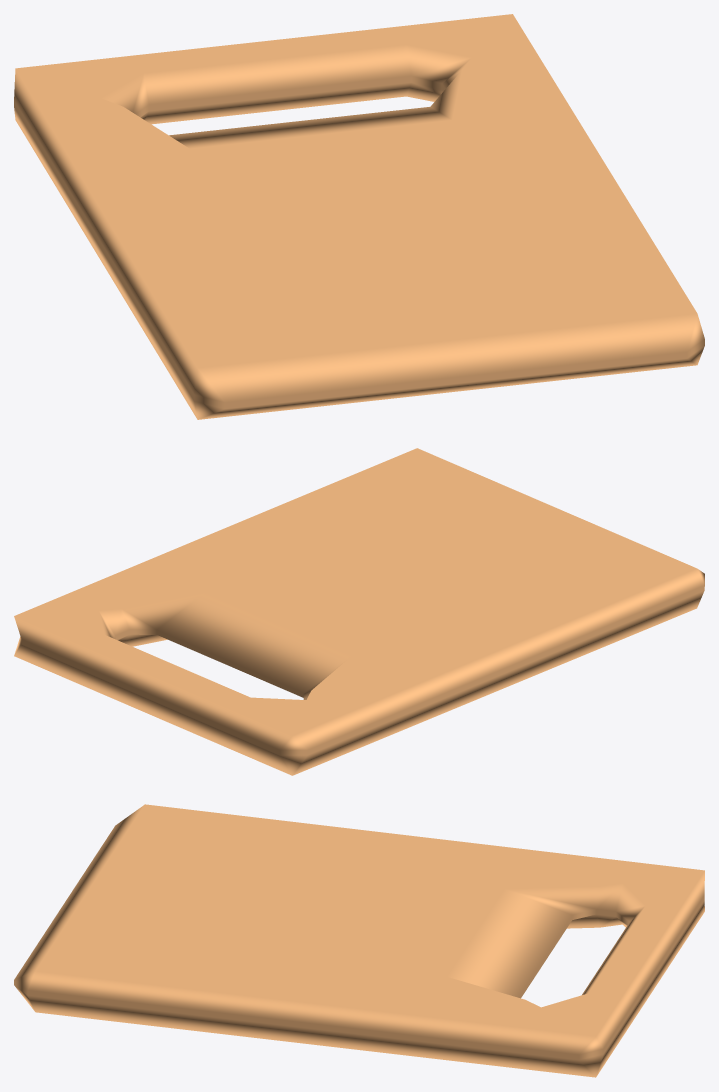
The model's file is cuttingboard.fbx.
The picture shows the model from 3 angles, top to bottom: view 1: azimuth 30°, elevation 25°; view 2: azimuth 150°, elevation 25°; view 3: azimuth 270°, elevation 25°; orthographic projection. The views are drawn at different scales.
Visible parts, largest first — view 1: Cutting board; view 2: Cutting board; view 3: Cutting board.
Boxes of the visible parts, <box> form: Cutting board: <box>14,14,704,419</box>; Cutting board: <box>14,448,704,775</box>; Cutting board: <box>14,804,704,1077</box>.
Size of the model in its own units: 84.04 by 6.85 by 104.
